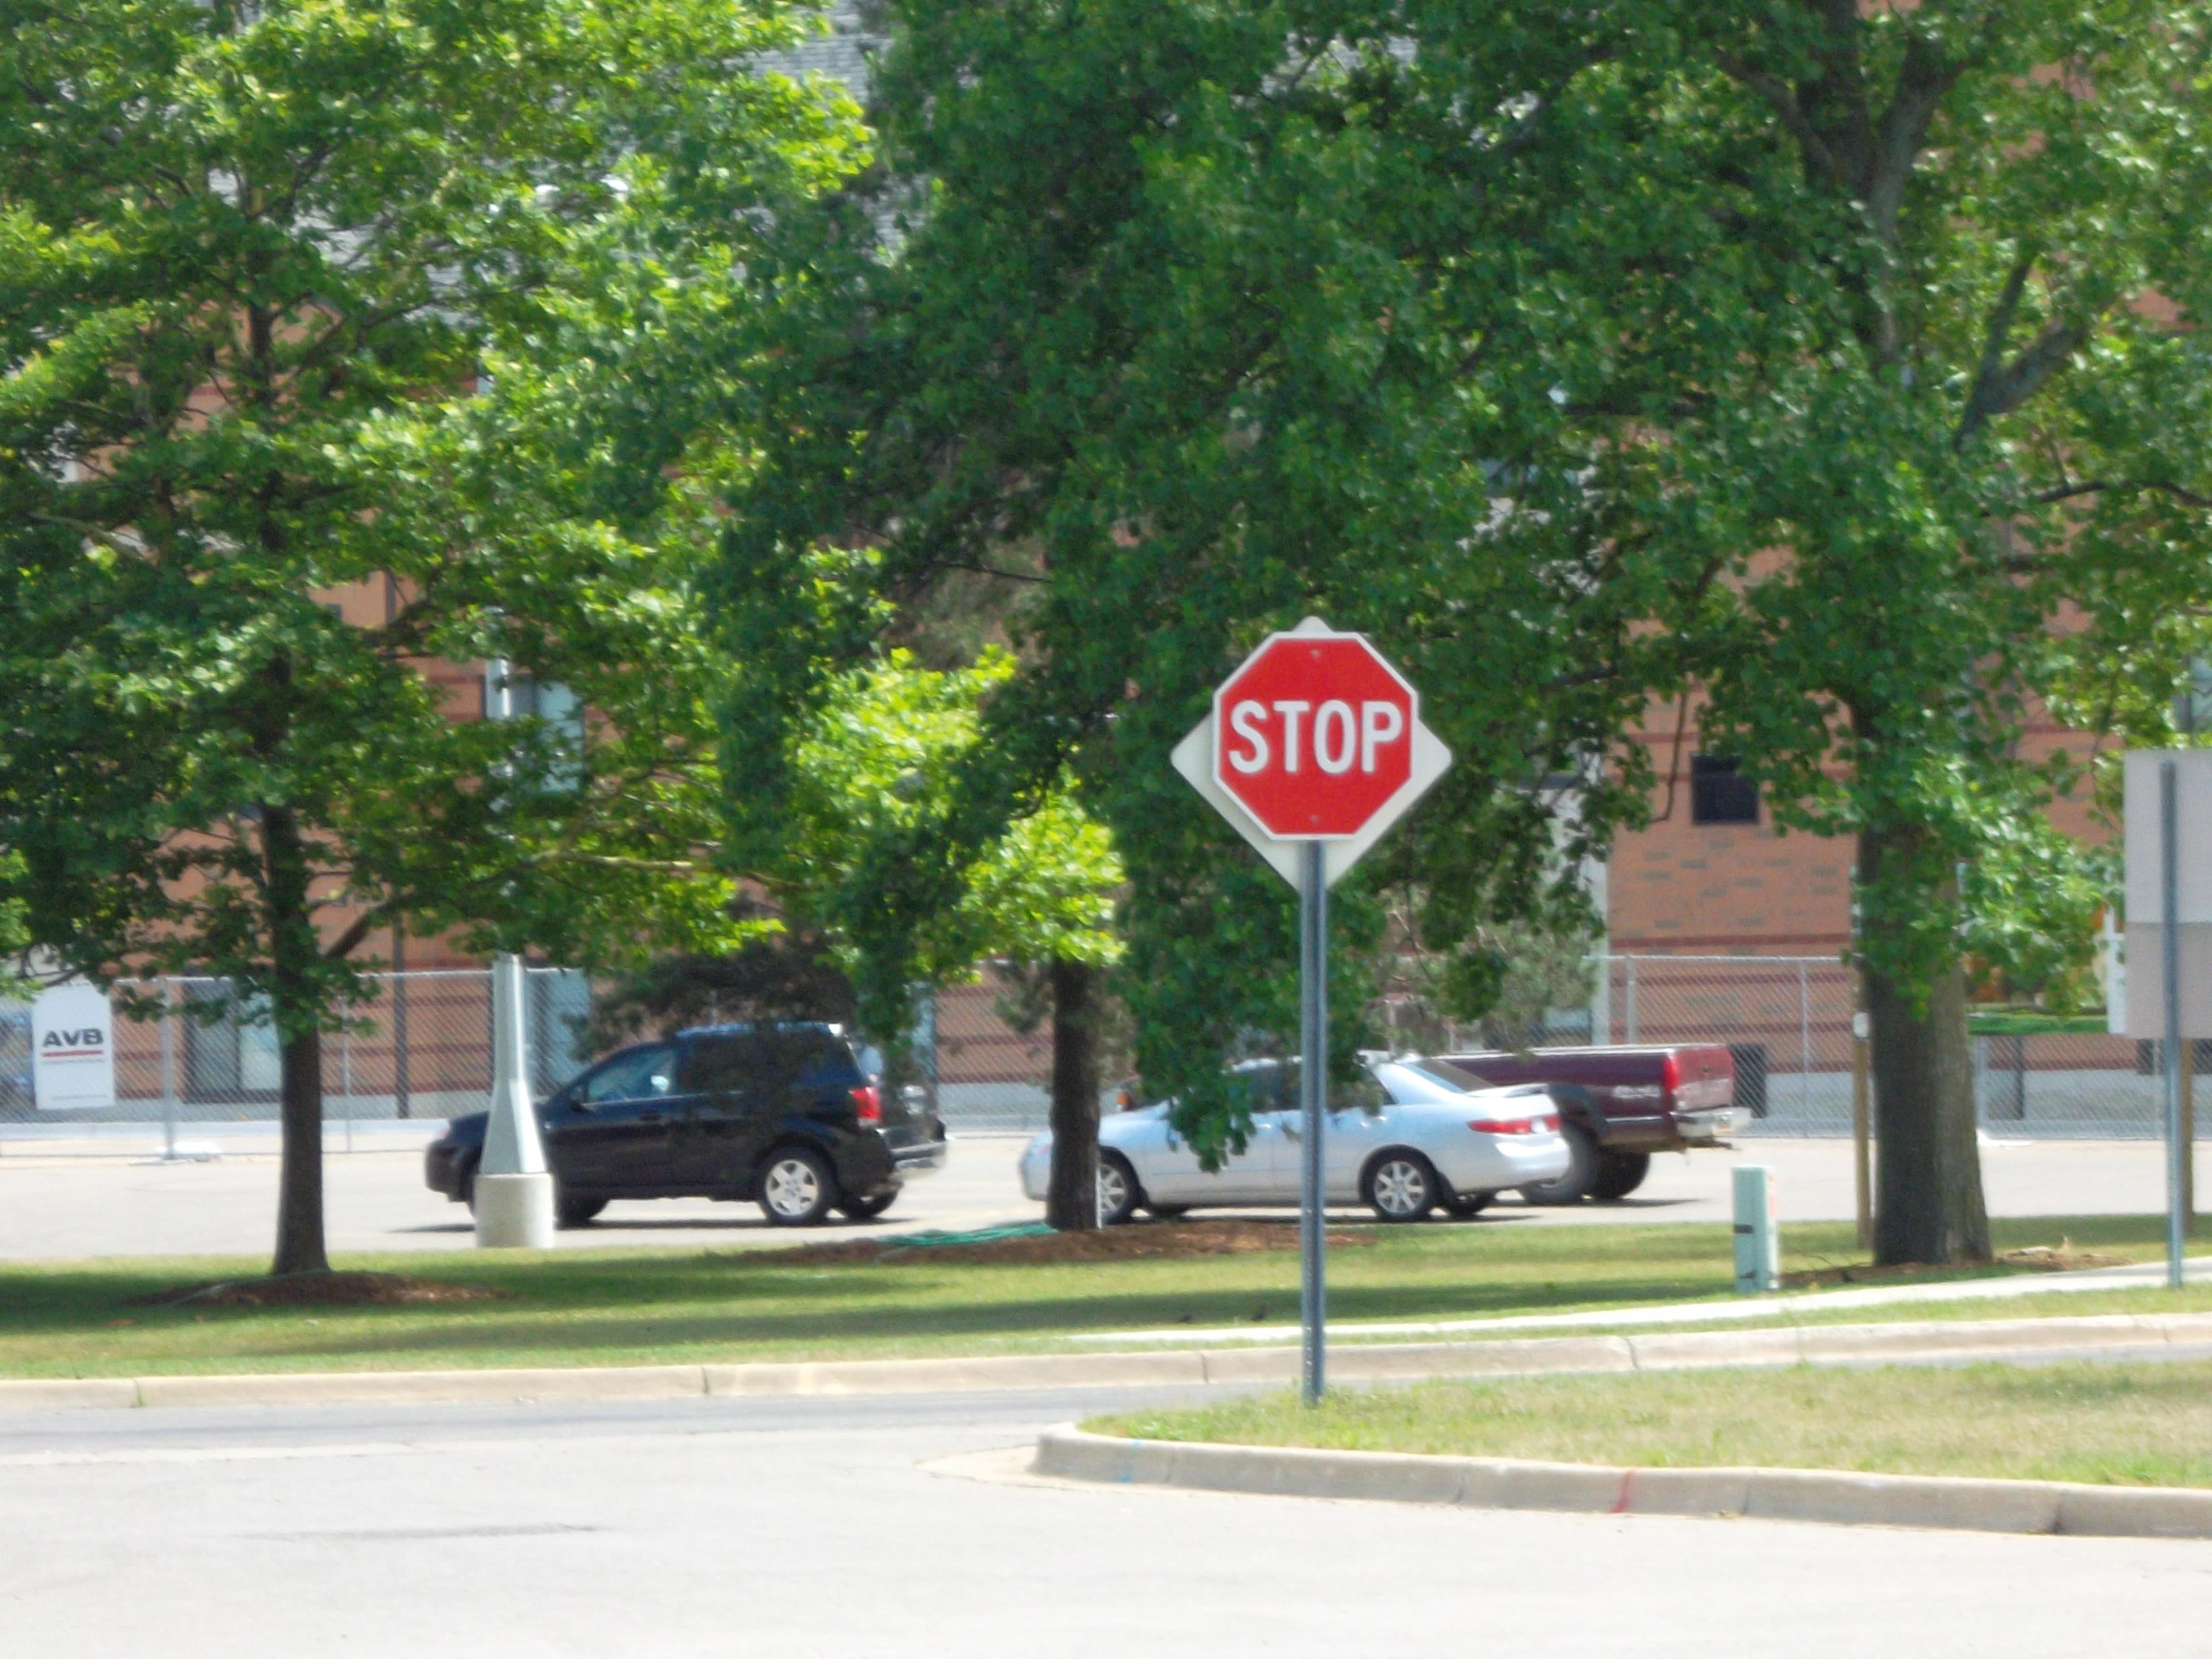stop: (1209, 629, 1416, 845)
